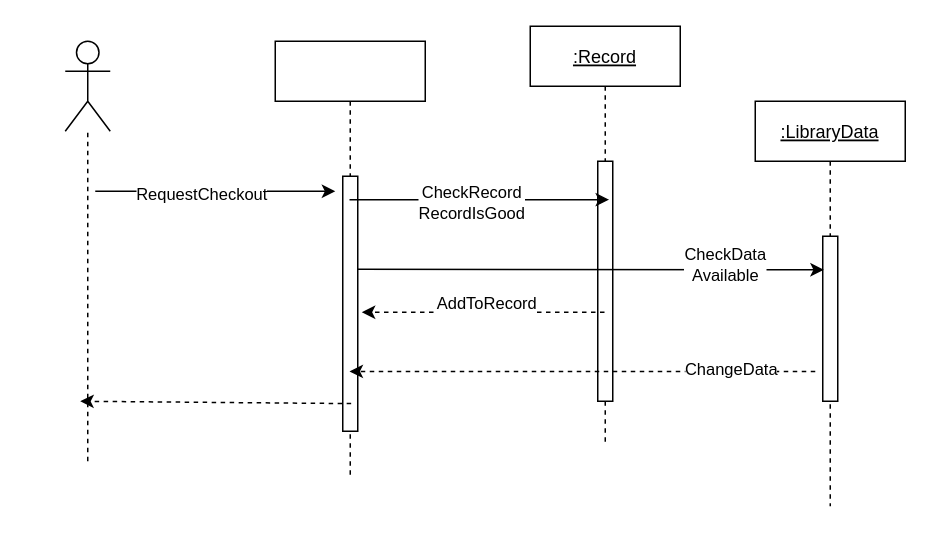
This 932x533 diagram has some shape labels left out. The box of each missing label's shape, as (x1, y1, x2, y2) in pixels:
:Checkout: (274, 40, 425, 476)
Checkout Clerk: (64, 40, 110, 131)
